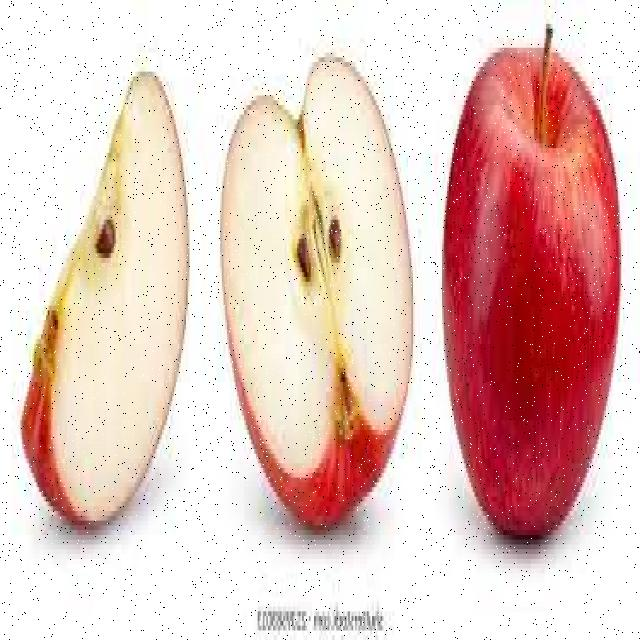Apple: (219, 52, 414, 527), (442, 50, 622, 545), (20, 70, 190, 533)
